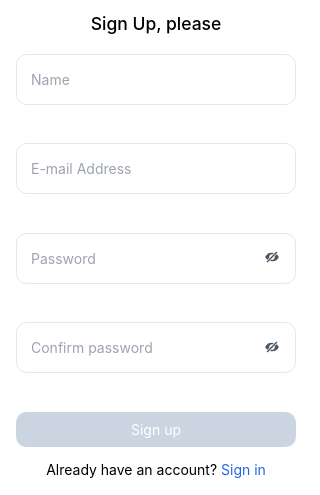
it: displays error messages if input fields are invalid
The image size is (320, 495).
In the field with placeholder "Name": point(156, 79) x1=16 y1=54 x2=296 y2=104, type "A"
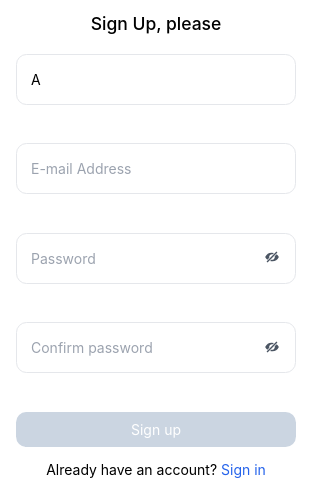
In the field with placeholder "E-mail Address": point(156, 168) x1=16 y1=143 x2=296 y2=194, type "invalidMailexample.com"
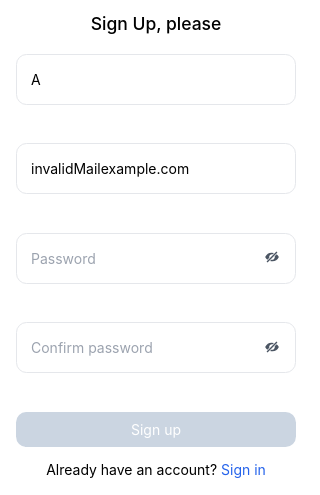
In the password field with placeholder "Password": point(156, 258) x1=16 y1=232 x2=296 y2=284, type "BadPassword"
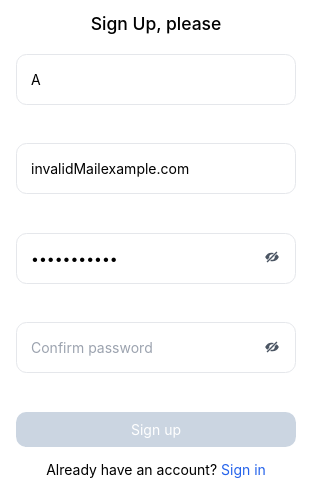
In the password field with placeholder "Confirm password": point(156, 348) x1=16 y1=322 x2=296 y2=373, type "BadPassword1"
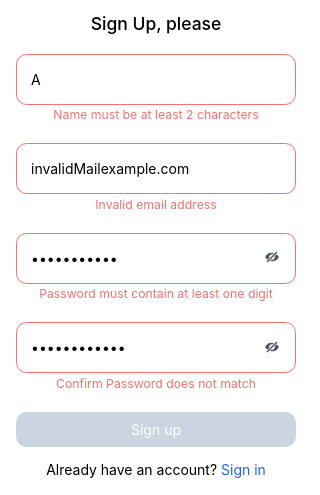
Expected: the text "Name must be at least 2 characters" is shown, x1=53 y1=107 x2=259 y2=122
Expected: the text "Invalid email address" is shown, x1=95 y1=197 x2=217 y2=212
Expected: the text "Password must contain at least one digit" is shown, x1=39 y1=286 x2=273 y2=301
